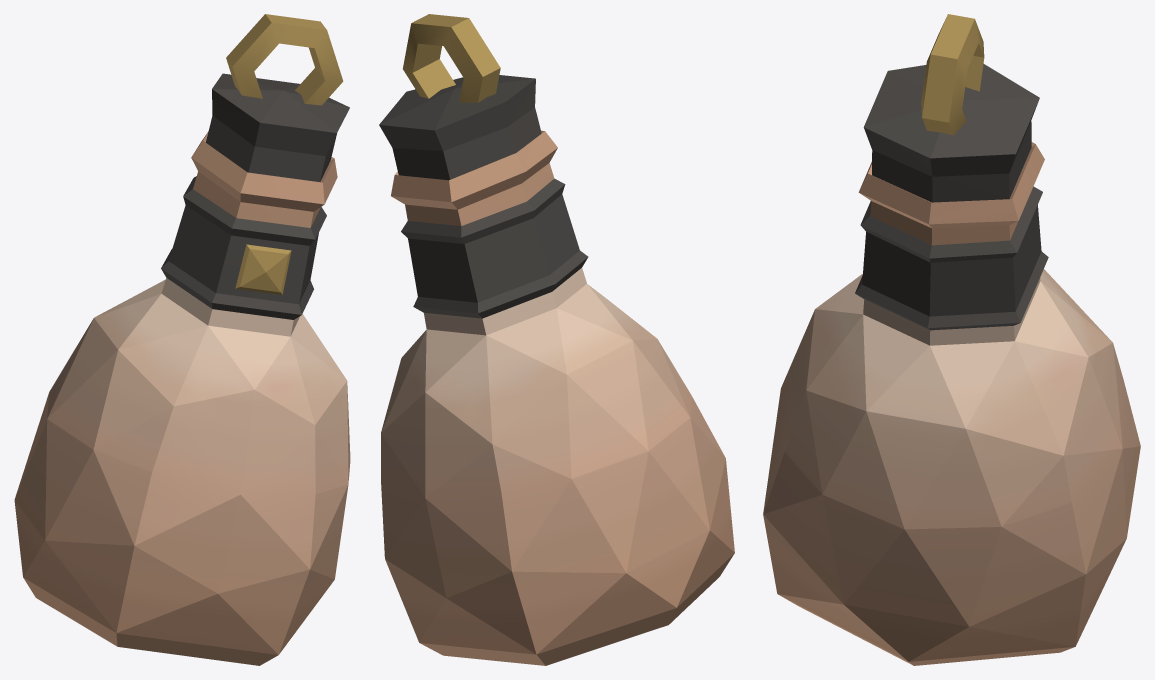
Rendered from rogueBrew.fbx.
The picture shows the model from 3 angles, left to right: view 1: azimuth 30°, elevation 25°; view 2: azimuth 150°, elevation 25°; view 3: azimuth 270°, elevation 25°; orthographic projection. The views are drawn at different scales.
Visible parts, largest first — view 1: rogueBrew; view 2: rogueBrew; view 3: rogueBrew.
Part boxes in pixels (x1,y1,x2,y2): rogueBrew: (14, 14, 350, 665); rogueBrew: (379, 14, 734, 665); rogueBrew: (763, 14, 1140, 665).
Bounding box in the file's own units: 0.8553 × 1.6 × 0.8344.
